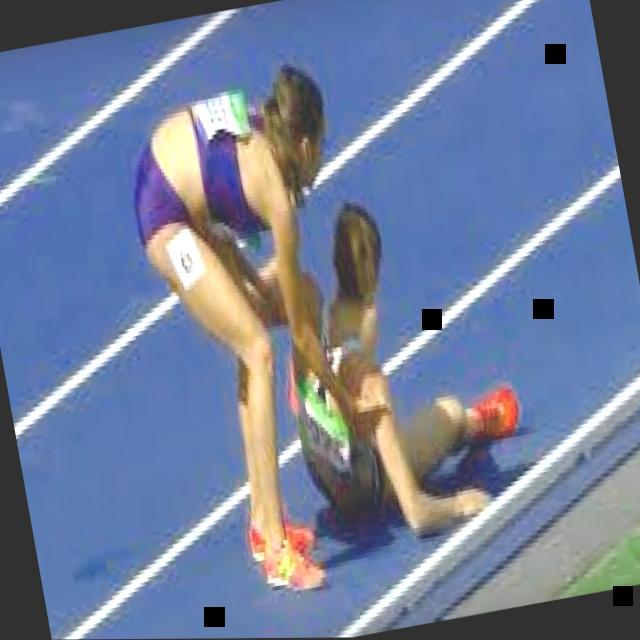Fall-Detected: (246, 154, 545, 560)
